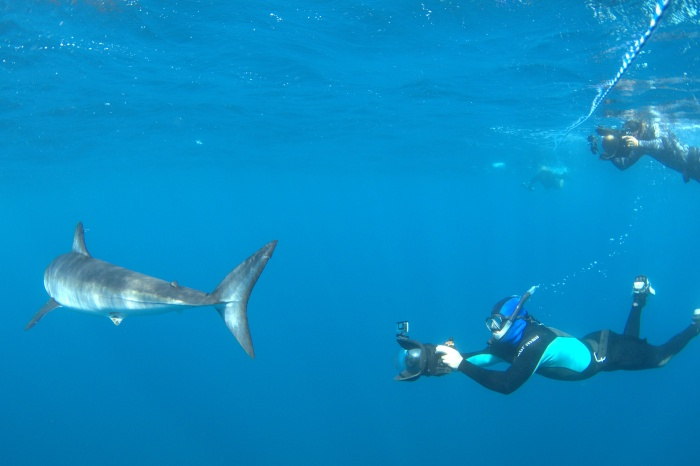Mako: (23, 216, 287, 360)
